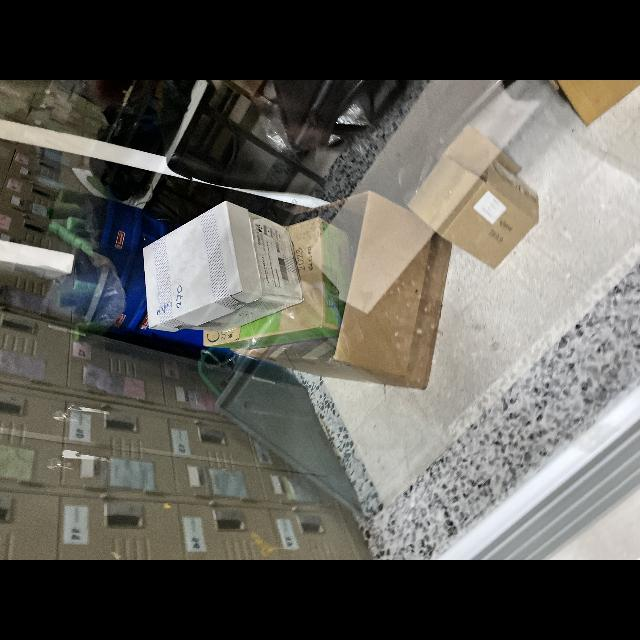cardboard_box: (274, 188, 454, 394), (140, 196, 306, 334), (202, 212, 356, 360), (411, 122, 545, 272)
